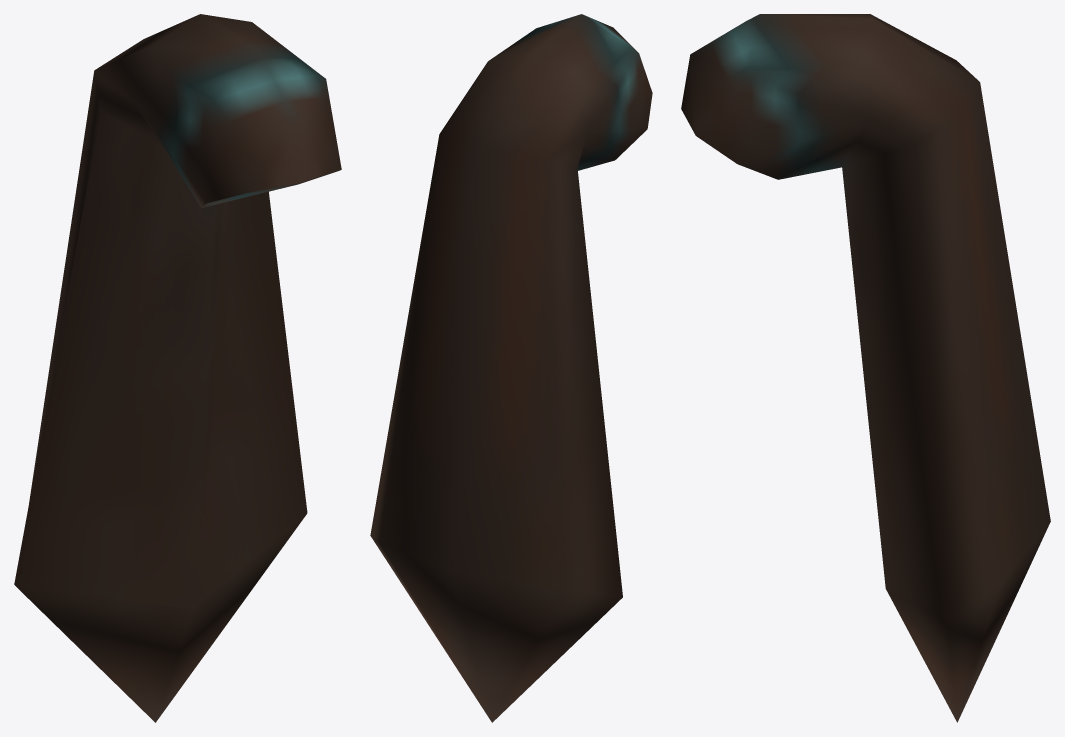
File: hair_female_pony_02.fbx
The picture shows the model from 3 angles, left to right: view 1: azimuth 30°, elevation 25°; view 2: azimuth 150°, elevation 25°; view 3: azimuth 270°, elevation 25°; orthographic projection. The views are drawn at different scales.
Parts seen in each view (by area): view 1: hair_scientistF_pony_02; view 2: hair_scientistF_pony_02; view 3: hair_scientistF_pony_02.
Boxes of the visible parts, box(x1,y1,x2,y2) form: hair_scientistF_pony_02: box(14, 14, 341, 722); hair_scientistF_pony_02: box(370, 14, 652, 722); hair_scientistF_pony_02: box(681, 14, 1050, 722).
Bounding box in the file's own units: 2.7 × 6.58 × 3.11.
